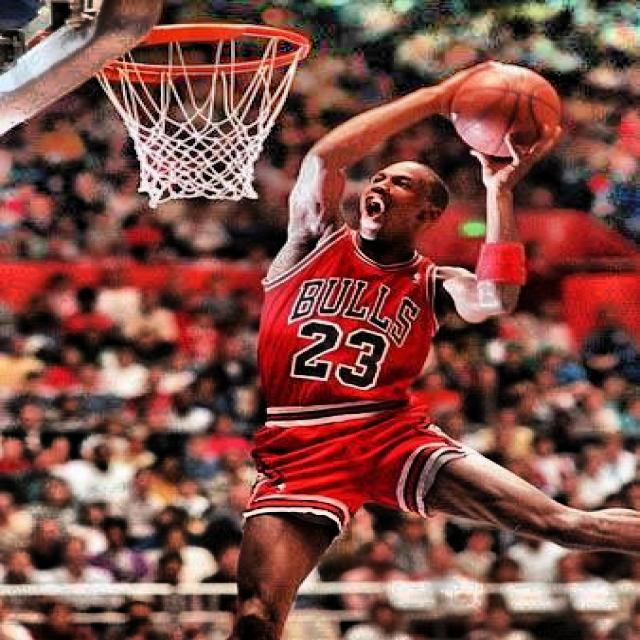board: (451, 67, 562, 159)
rim: (104, 22, 313, 204)
